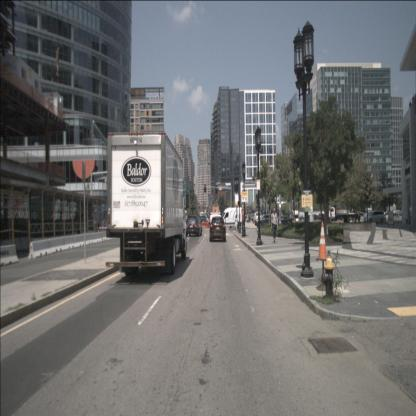barrier: (28, 238, 52, 260), (0, 245, 18, 264), (46, 238, 66, 254), (61, 235, 78, 250), (74, 234, 88, 248), (83, 233, 96, 245), (93, 232, 104, 243), (101, 231, 110, 241), (201, 222, 209, 228)
cone: (316, 221, 328, 260)
